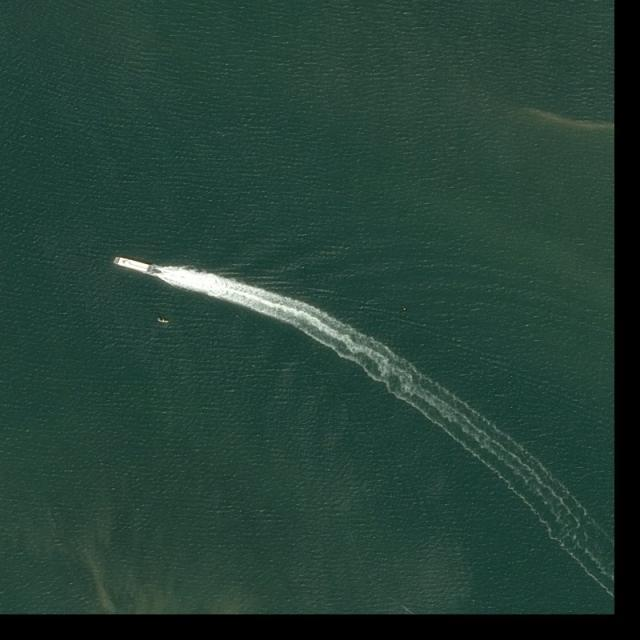ship: (111, 256, 159, 278), (157, 318, 169, 324)
